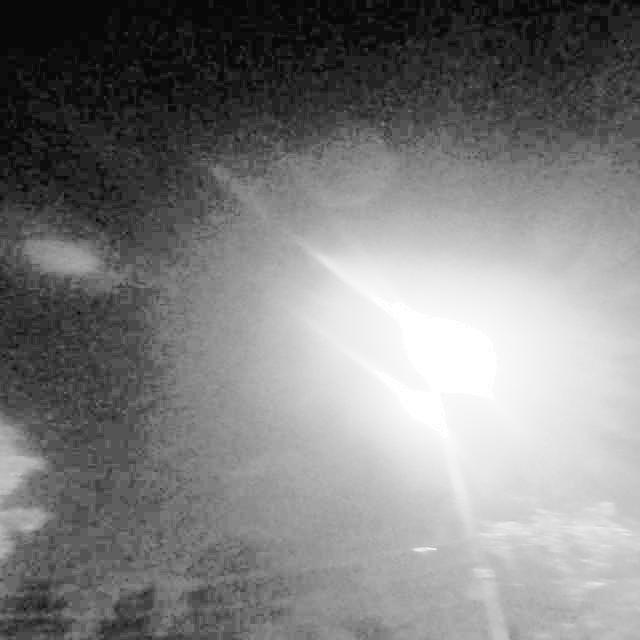Light: (397, 304, 499, 389), (381, 374, 459, 432)
